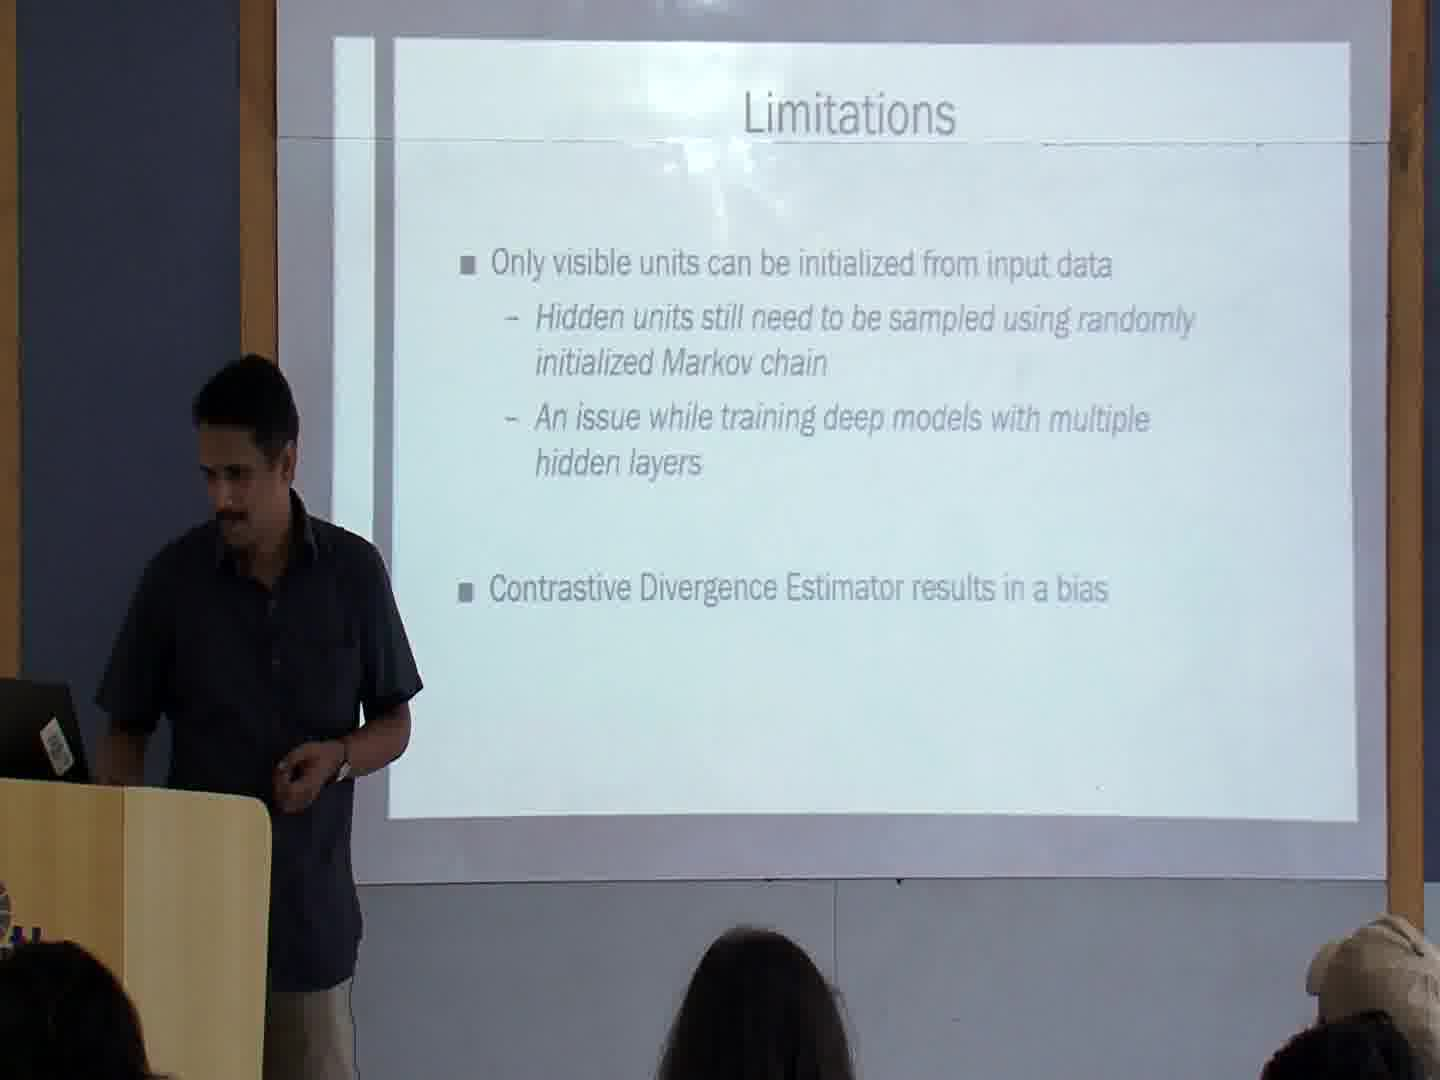slide: (330, 36, 1353, 821)
